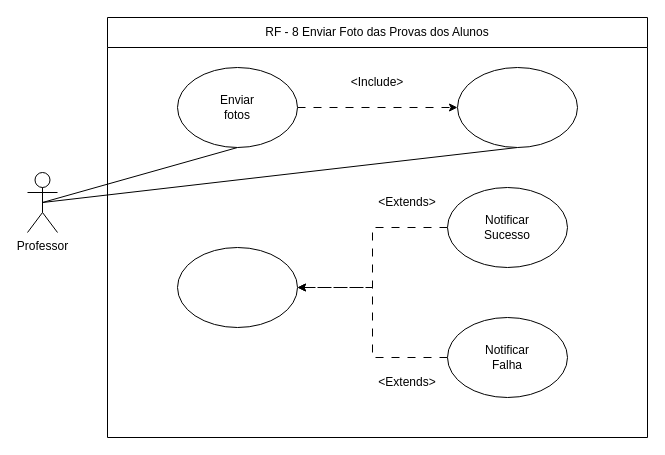
This 665x455 diagram has some shape labels left out. Each missing label, with the centre of its shape:
"Mostrar arquivos das provas inserida s" goes at pixel 237 287.
"Verificar se as fotos não apresentam erros" goes at pixel 517 107.
